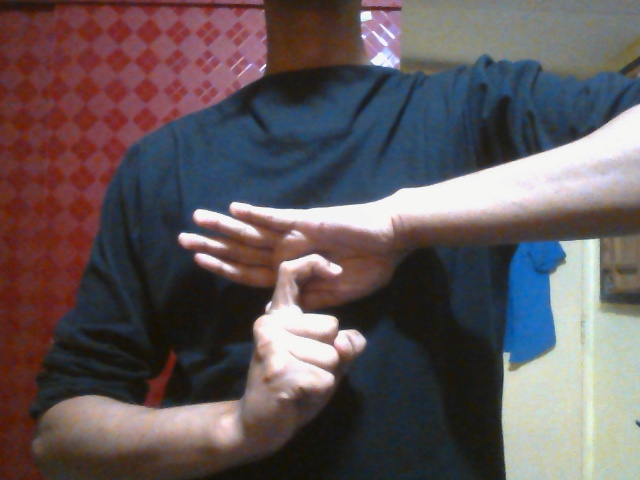R: (175, 199, 394, 430)
